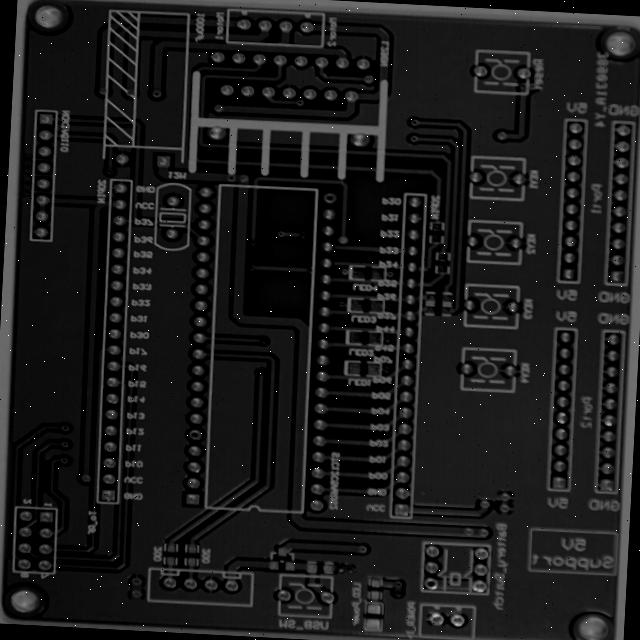missing_hole: (184, 426, 206, 444), (421, 575, 439, 592), (146, 86, 165, 101), (321, 191, 339, 206), (225, 173, 238, 184)
